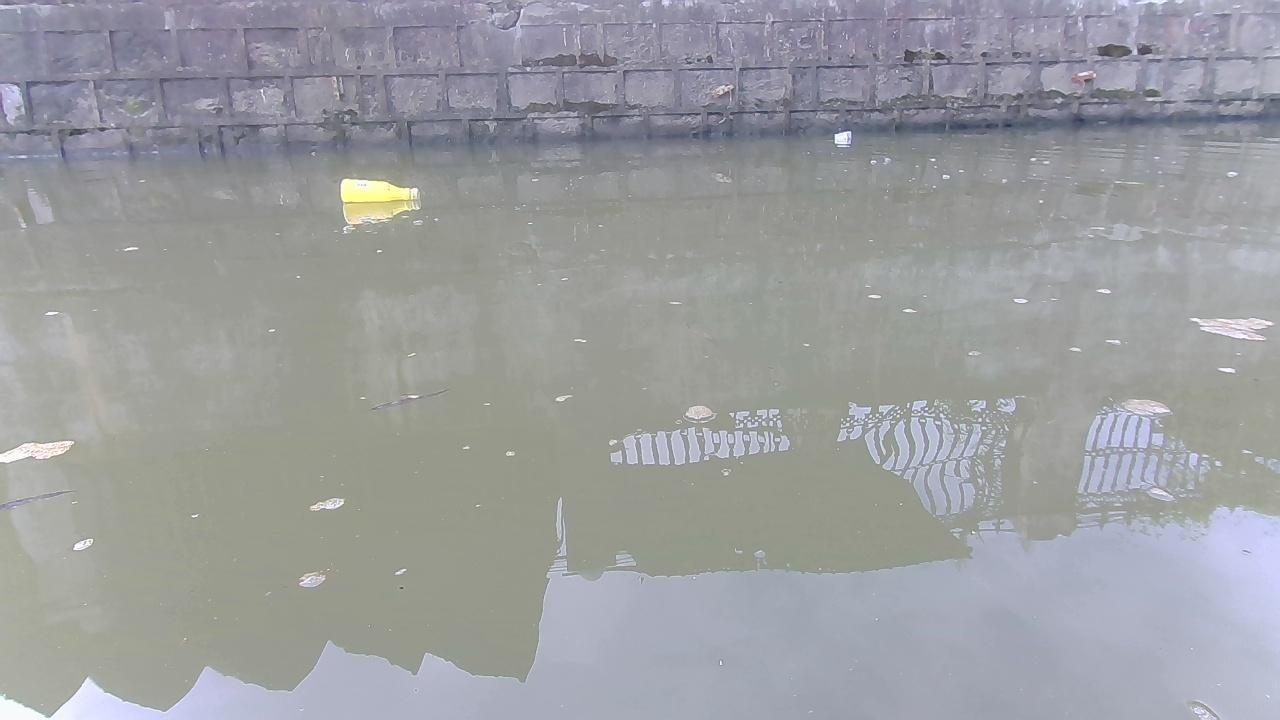bottle: (338, 176, 417, 203), (833, 130, 858, 143)
